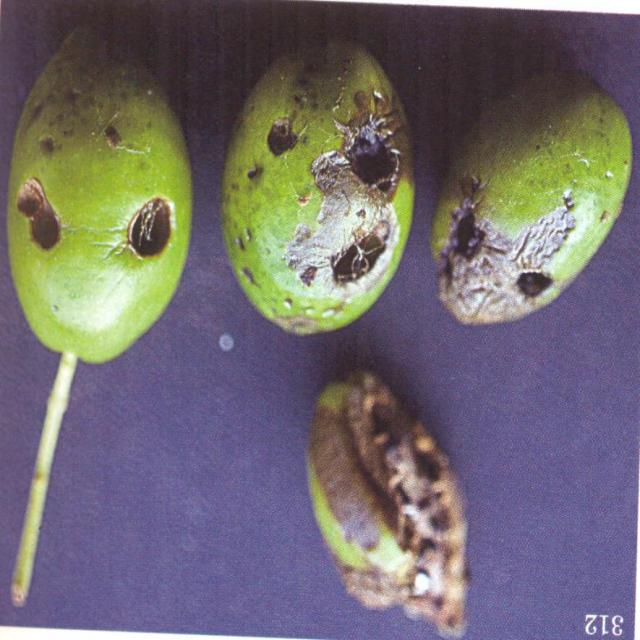Olive Fruit Fly: (7, 28, 190, 362), (222, 44, 414, 335), (430, 77, 631, 324), (308, 372, 469, 636)
